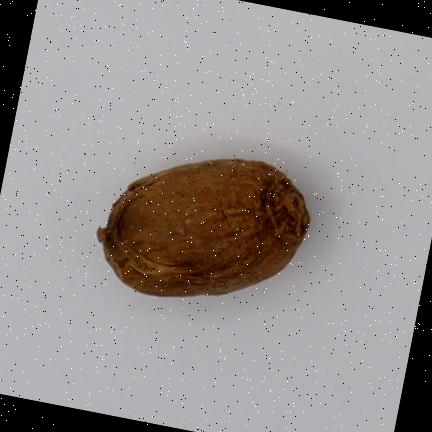husk: (97, 159, 309, 296)
